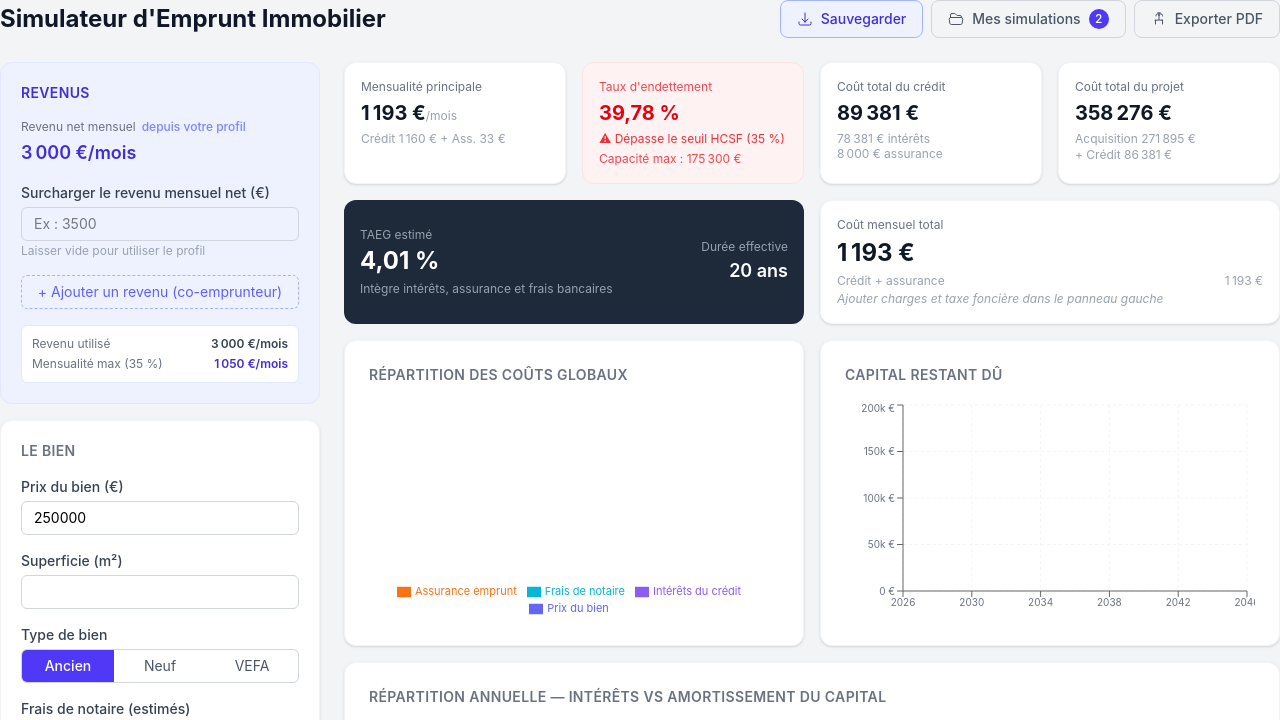
it: LoanSimulatorPage — gestion des simulations sauvegardées › supprime une simulation et la retire de la liste
Expected: the text "Appartement Paris" is not shown
Click the button "Mes simulations 2" at (1028, 19), box [931, 0, 1126, 38]
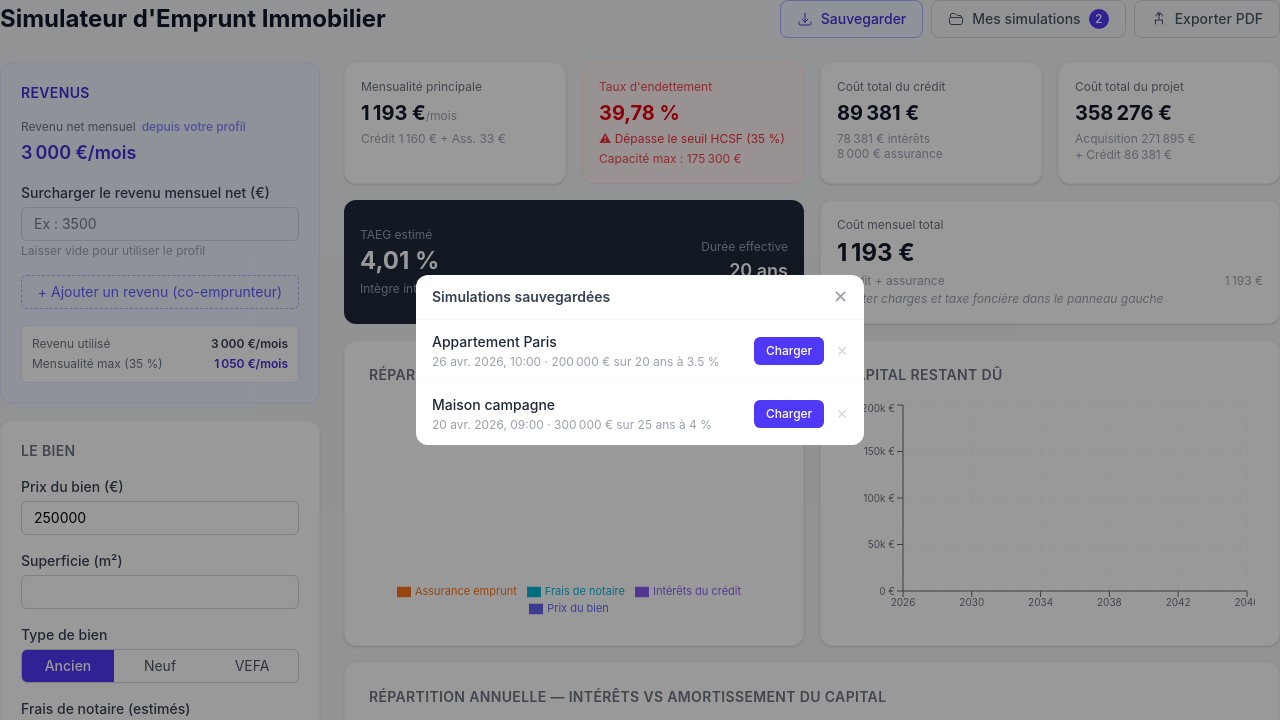
Result: the text "Appartement Paris" is shown at [432, 333, 557, 350]
Click the button "✕" in the row of "Appartement Paris" at (842, 351), box [836, 341, 848, 361]
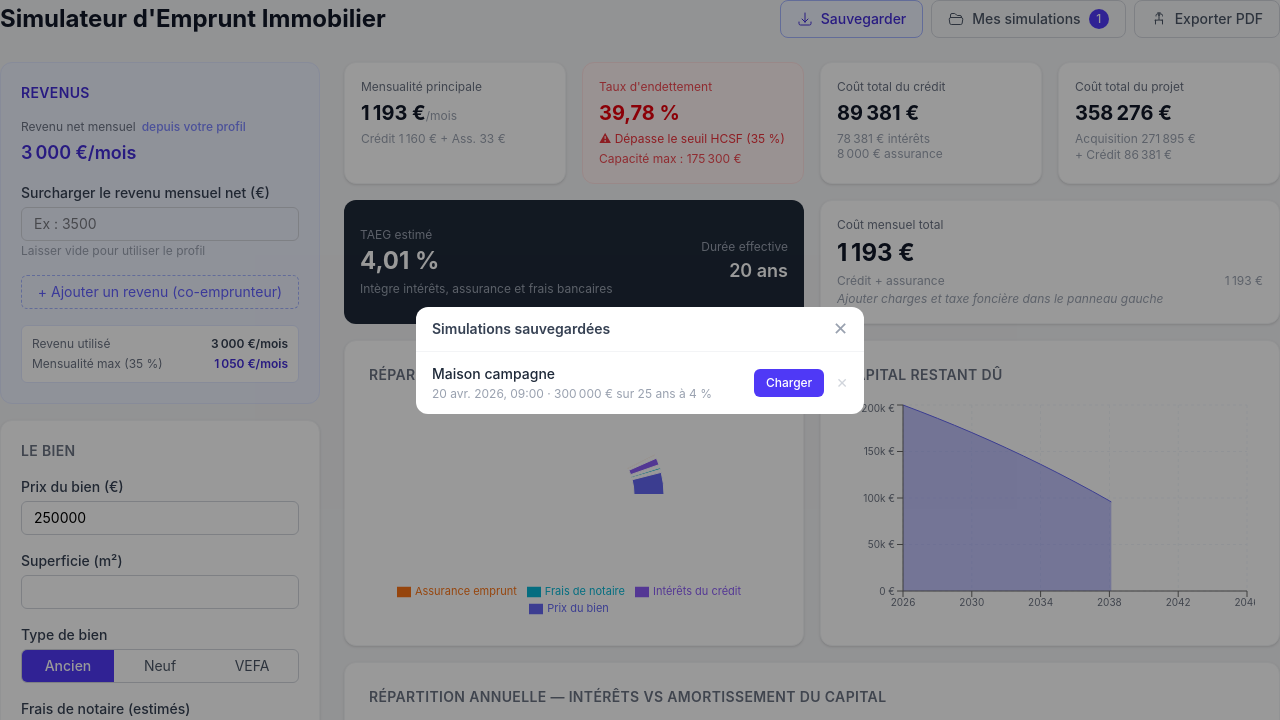
Result: the text "Appartement Paris" is gone
